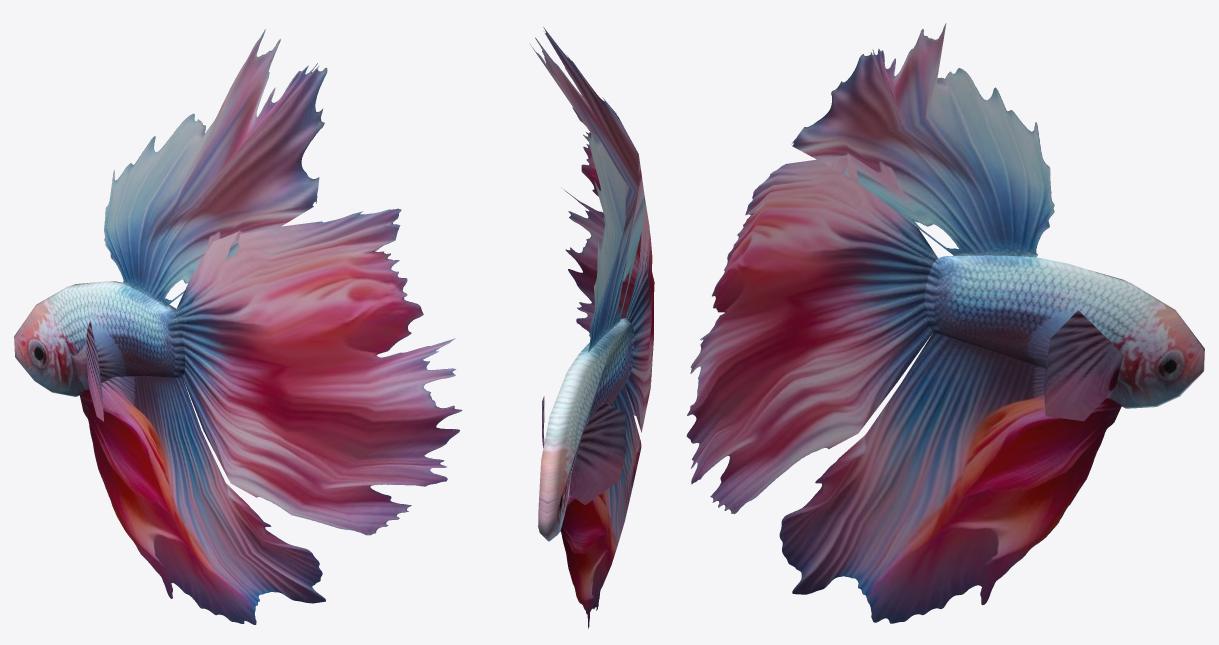
Rendered from bettaComplexKey.glb.
3 views of the same model, side by side, from view 1: azimuth 30°, elevation 25°; view 2: azimuth 150°, elevation 25°; view 3: azimuth 270°, elevation 25° (orthographic). The views are drawn at different scales.
Parts seen in each view (by area): view 1: Fish; view 2: Fish; view 3: Fish.
Boxes of the visible parts, x1,y1,x2,y2 form: Fish: (14,29,462,624); Fish: (529,27,654,628); Fish: (686,23,1204,623).
Size of the model in its own units: 2.26 by 5 by 3.67.
2 materials, 2 textured.
